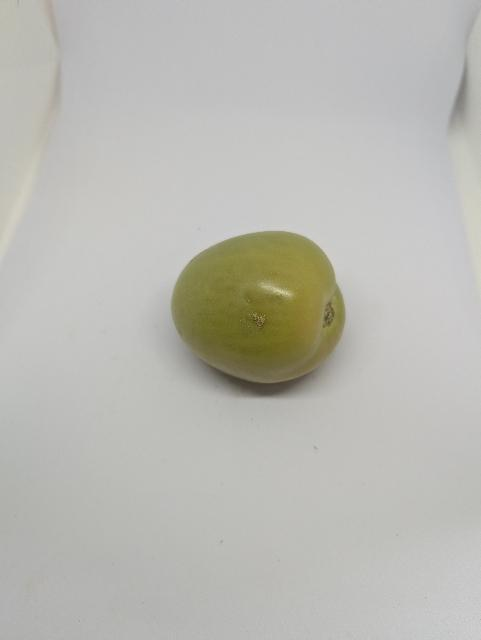green: (149, 219, 360, 395)
